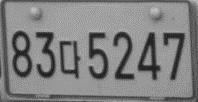2: (112, 31, 135, 79)
3: (34, 31, 56, 77)
4: (137, 31, 161, 80)
5: (87, 31, 109, 79)
7: (162, 31, 185, 80)
8: (10, 29, 32, 77)
다: (58, 39, 81, 79)
